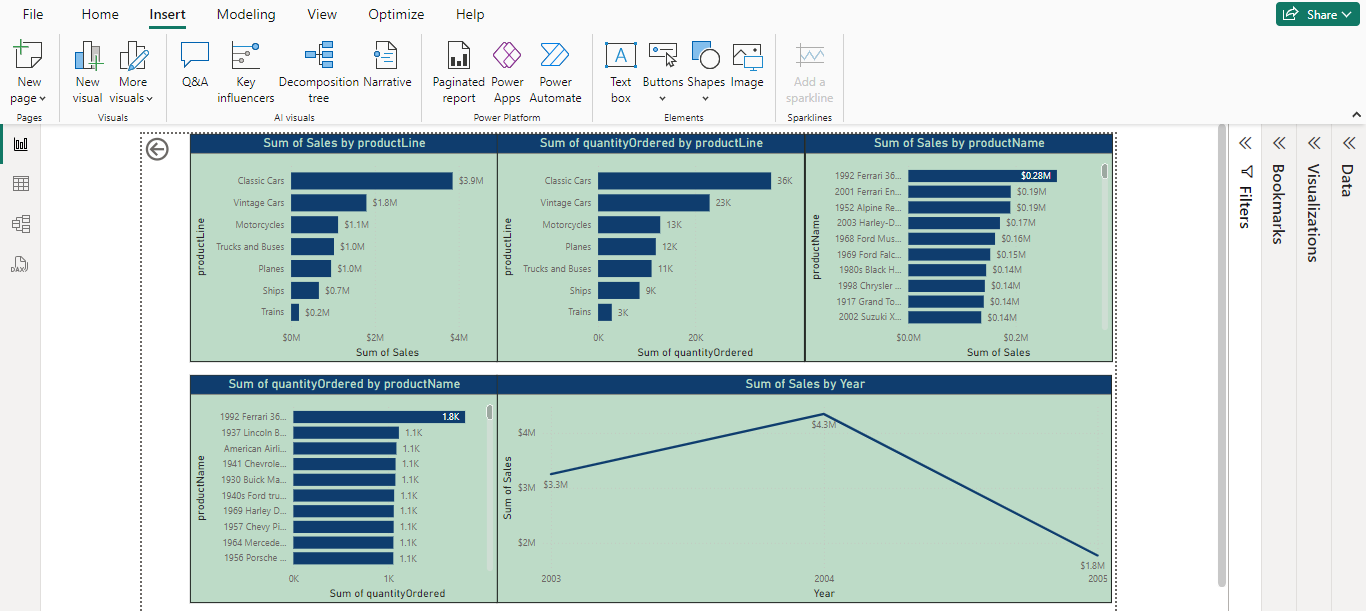

The dashboard page shown, as its layout file describes it:
{"tool":"powerbi","page":{"name":"Page 2","canvas":[1280,720],"ordinal":2},"visuals":[{"type":"actionButton","box":[0,0,100,40],"z":0},{"type":"barChart","fields":{"Category":["productlines.productLine"],"Y":["Sum(order details.Sales)"]},"box":[63.1,0,404.6,300],"z":1},{"type":"barChart","fields":{"Category":["productlines.productLine"],"Y":["Sum(order details.quantityOrdered)"]},"box":[467.7,0,404.6,300],"z":2},{"type":"barChart","fields":{"Y":["Sum(order details.Sales)"],"Category":["products.productName"]},"box":[872.3,0,404.6,300],"z":3},{"type":"barChart","fields":{"Y":["Sum(order details.quantityOrdered)"],"Category":["products.productName"]},"box":[63.1,316.9,404.6,300],"z":4},{"type":"lineChart","fields":{"Category":["orders.orderDate.Variation.Date Hierarchy.Year","orders.orderDate.Variation.Date Hierarchy.Quarter","orders.orderDate.Variation.Date Hierarchy.Month","orders.orderDate.Variation.Date Hierarchy.Day"],"Y":["Sum(order details.Sales)"]},"box":[467.7,316.9,809.2,300],"z":5}]}

Visuals, with their boxes on the page's 1280x720 design canvas (x1, y1, x2, y2). These are canvas units, not pixel positions in the 1366x611 screenshot, which may show the page scaled, cropped or inside an application window:
actionButton: [0,0,100,40]
barChart - productlines.productLine x Sum(order details.Sales): [63,0,468,300]
barChart - productlines.productLine x Sum(order details.quantityOrdered): [468,0,872,300]
barChart - Sum(order details.Sales) x products.productName: [872,0,1277,300]
barChart - Sum(order details.quantityOrdered) x products.productName: [63,317,468,617]
lineChart - orders.orderDate.Variation.Date Hierarchy.Year x orders.orderDate.Variation.Date Hierarchy.Quarter: [468,317,1277,617]
